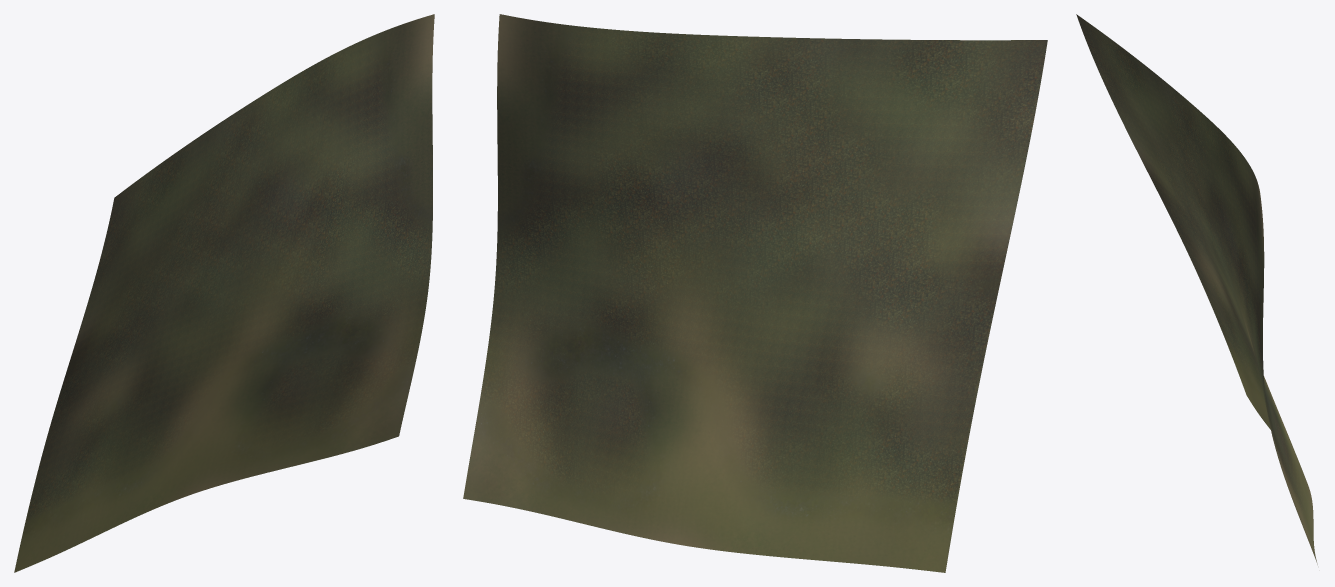
Rendered from ground_core_00_05.obj.
The picture shows the model from 3 angles, left to right: view 1: azimuth 30°, elevation 25°; view 2: azimuth 150°, elevation 25°; view 3: azimuth 270°, elevation 25°; orthographic projection. The views are drawn at different scales.
Parts seen in each view (by area): view 1: ground_core_00_05; view 2: ground_core_00_05; view 3: ground_core_00_05.
Boxes of the visible parts, left/top/right/bottom form: ground_core_00_05: left=14, top=14, right=434, bottom=572; ground_core_00_05: left=463, top=14, right=1047, bottom=572; ground_core_00_05: left=1076, top=14, right=1317, bottom=564.
Bounding box in the file's own units: 50 × 50 × 29.08.
1 material, 1 textured.
